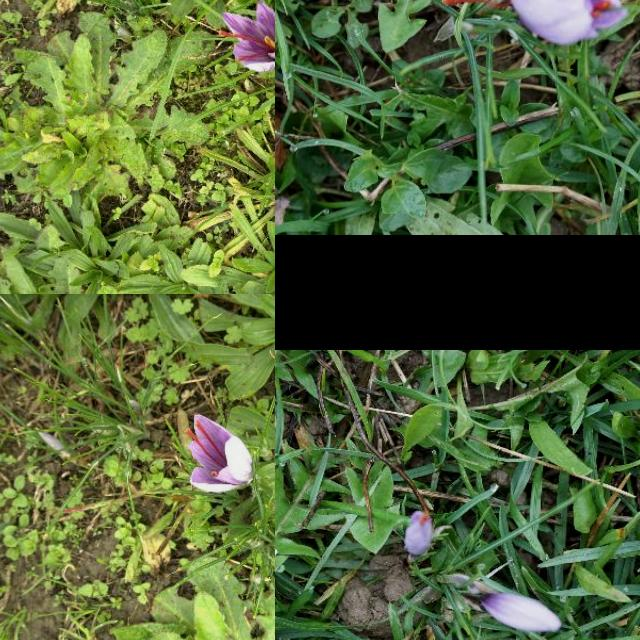flower: (442, 0, 628, 44), (186, 414, 254, 494), (220, 2, 275, 70), (474, 592, 564, 632), (406, 512, 434, 558)
